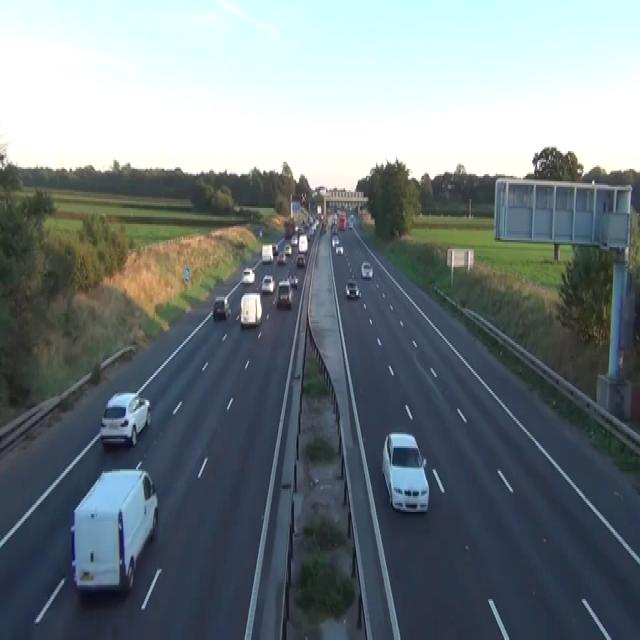Car: (381, 432, 429, 514), (100, 391, 151, 446), (276, 279, 292, 308), (213, 295, 231, 320), (345, 279, 360, 299), (360, 260, 373, 279), (261, 274, 274, 293), (241, 266, 255, 282), (288, 272, 298, 288), (296, 252, 305, 266), (277, 252, 286, 265), (331, 235, 339, 247), (335, 244, 343, 254), (284, 244, 292, 254), (331, 224, 338, 235), (272, 244, 278, 256), (290, 235, 297, 245), (321, 222, 326, 233), (348, 218, 353, 228), (294, 226, 299, 233), (258, 228, 262, 236)
Truck: (70, 464, 158, 594), (240, 292, 262, 327), (261, 244, 273, 263), (283, 217, 294, 236)
